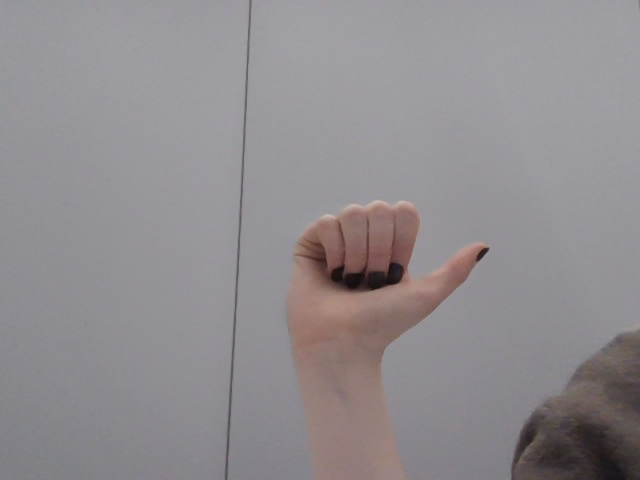left: (269, 192, 522, 362)
